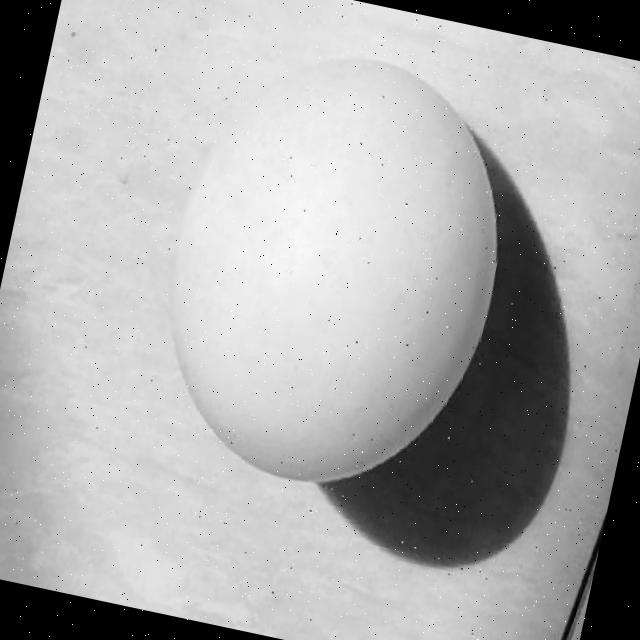ping-pong-ball: (138, 28, 524, 495)
